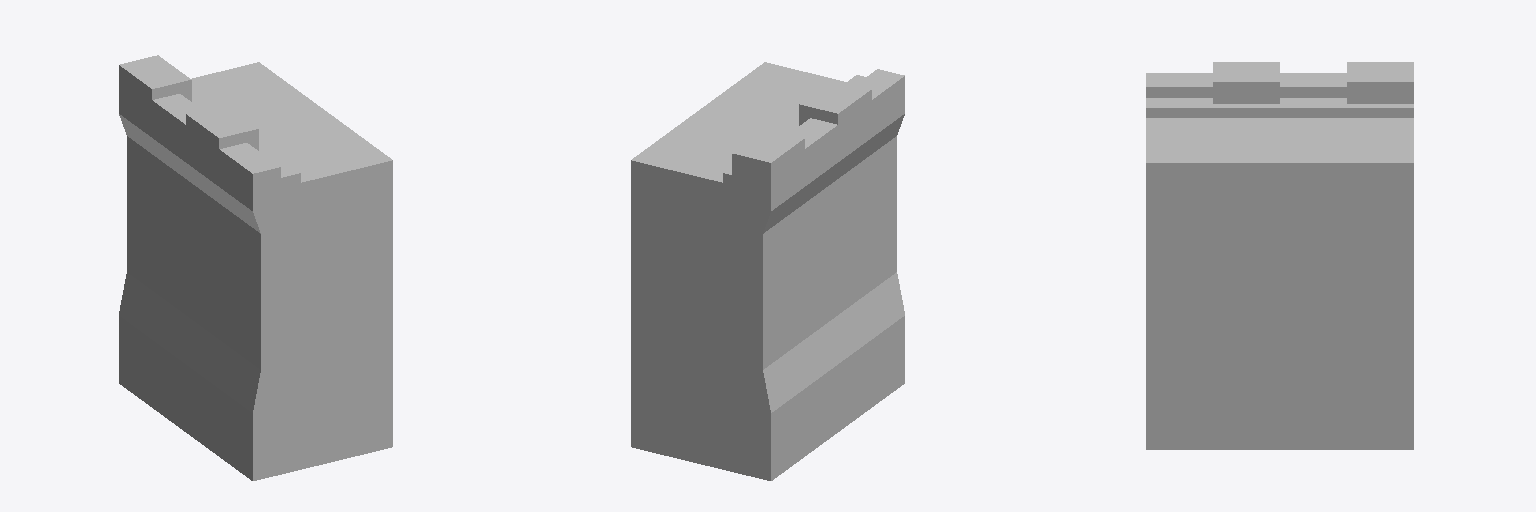
Rendered from wallHalfModular_exclusive.obj.
3 renders of one model, left to right at view 1: azimuth 30°, elevation 25°; view 2: azimuth 150°, elevation 25°; view 3: azimuth 270°, elevation 25°, orthographic.
Parts seen in each view (by area): view 1: wallHalfModular_exclusive; view 2: wallHalfModular_exclusive; view 3: wallHalfModular_exclusive.
Boxes of the visible parts, x1,y1,x2,y2 form: wallHalfModular_exclusive: [119, 55, 392, 480]; wallHalfModular_exclusive: [631, 62, 904, 480]; wallHalfModular_exclusive: [1146, 62, 1413, 449].
Bounding box in the file's own units: 6.05 × 13.1 × 10.